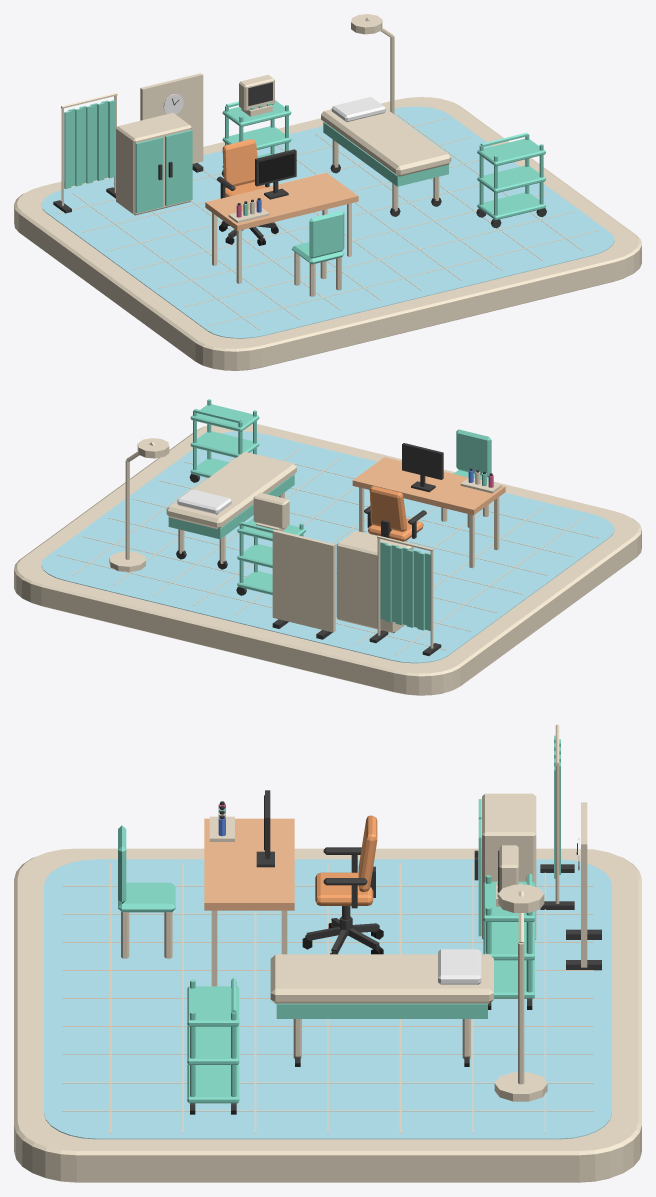
Rendered from room.fbx.
The picture shows the model from 3 angles, top to bottom: view 1: azimuth 30°, elevation 25°; view 2: azimuth 150°, elevation 25°; view 3: azimuth 270°, elevation 25°; orthographic projection. The views are drawn at different scales.
Parts seen in each view (by area): view 1: COM-02 Floor Surface, COM-01 Rounded Base Direct, Top, Mattress, Equipment case, Panel, COM-04_Chair_blender_direct, Door, Door.001, Backrest, Frame, Tray.002 (+15 smaller); view 2: COM-02 Floor Surface, COM-01 Rounded Base Direct, Panel, Top, Mattress, Equipment case, COM-04_Chair_blender_direct, Frame, Backrest, Housing, Tray.001, Tray.002 (+14 smaller); view 3: COM-02 Floor Surface, COM-01 Rounded Base Direct, Mattress, Top, COM-04_Chair_blender_direct, Equipment case, Base, Tray.002, Tray, Tray.001, Seat, Pillow (+16 smaller).
Boxes of the visible parts, x1,y1,x2,y2 form: COM-02 Floor Surface: (41, 106, 614, 338); COM-01 Rounded Base Direct: (14, 97, 641, 370); Top: (205, 173, 358, 283); Mattress: (321, 108, 451, 176); Equipment case: (116, 113, 191, 215); Panel: (140, 73, 203, 163); COM-04_Chair_blender_direct: (216, 139, 278, 245); Door: (135, 137, 163, 213); Door.001: (165, 130, 192, 206); Backrest: (309, 210, 344, 258); Frame: (255, 149, 296, 199); Tray.002: (477, 138, 545, 166); COM-02 Floor Surface: (41, 431, 614, 663); COM-01 Rounded Base Direct: (14, 424, 641, 695); Panel: (272, 529, 335, 632); Top: (352, 457, 505, 568); Mattress: (166, 451, 296, 529); Equipment case: (336, 530, 412, 633); COM-04_Chair_blender_direct: (364, 486, 426, 541); Frame: (402, 443, 443, 492); Backrest: (456, 429, 491, 476); Housing: (253, 492, 289, 528); Tray.001: (190, 431, 259, 457); Tray.002: (190, 404, 259, 431); COM-02 Floor Surface: (44, 859, 611, 1139); COM-01 Rounded Base Direct: (14, 848, 641, 1182); Mattress: (270, 954, 493, 1003); Top: (204, 818, 294, 986); COM-04_Chair_blender_direct: (302, 815, 383, 954); Equipment case: (482, 793, 536, 939); Base: (276, 1008, 487, 1018); Tray.002: (187, 986, 239, 1026); Tray: (187, 1064, 239, 1103); Tray.001: (187, 1026, 239, 1064); Seat: (118, 882, 175, 912); Pillow: (438, 949, 481, 984).
Bounding box in the file's own units: 600 × 196 × 520.
